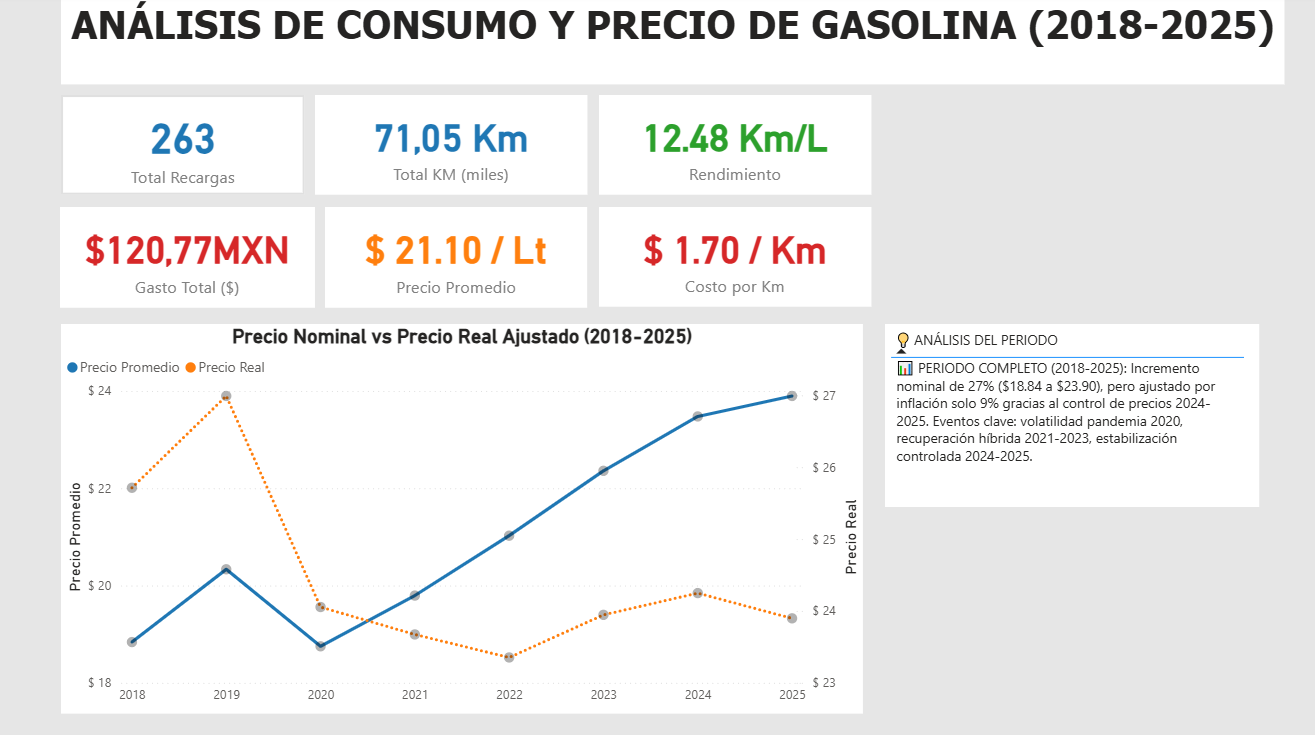

Layout of this report page (visuals, bound fields, positions):
{"tool":"powerbi","page":{"name":"Resumen Ejecutivo","canvas":[1280,720],"ordinal":0},"visuals":[{"type":"lineChart","title":"Precio Nominal vs Precio Real Ajustado (2018-2025)","fields":{"Category":["gasolina_powerbi.Año"],"Y2":["Tabla Medidas.Precio Real"],"Y":["Tabla Medidas.Precio Promedio"]},"box":[59.3,319,780.1,379.3],"z":0},{"type":"textbox","box":[59.7,0,1190.4,85.8],"z":1000},{"type":"card","fields":{"Values":["Tabla Medidas.Total Recargas"]},"box":[59.3,96.3,237.3,97.3],"z":2000},{"type":"card","fields":{"Values":["Tabla Visualiza.Total KM Recorridos"]},"box":[306.4,96.3,264.6,97.3],"z":3000},{"type":"card","fields":{"Values":["Tabla Medidas.Rendimiento"]},"box":[582.6,96.3,264.6,97.3],"z":4000},{"type":"card","fields":{"Values":["Tabla Visualiza.Gasto Total ($)"]},"box":[58.8,205,247.5,97.5],"z":5000},{"type":"card","fields":{"Values":["Tabla Medidas.Precio Promedio"]},"box":[316.2,205,255,97.5],"z":6000},{"type":"card","fields":{"Values":["Tabla Medidas.Costo por Km"]},"box":[582.6,205.2,264.6,97.3],"z":7000},{"type":"tableEx","fields":{"Values":["Tabla Medidas.Insight Dinámico"]},"box":[860.8,319,363.8,178],"z":8000}]}

Visuals, with their boxes in screenshot pixels (x1, y1, x2, y2), scaled from the page's 1280x720 canvas onto the 1315x735 screenshot:
"Precio Nominal vs Precio Real Ajustado (2018-2025)" lineChart: (left=61, top=326, right=862, bottom=713)
textbox: (left=61, top=0, right=1284, bottom=88)
card - Tabla Medidas.Total Recargas: (left=61, top=98, right=305, bottom=198)
card - Tabla Visualiza.Total KM Recorridos: (left=315, top=98, right=587, bottom=198)
card - Tabla Medidas.Rendimiento: (left=599, top=98, right=870, bottom=198)
card - Tabla Visualiza.Gasto Total ($): (left=60, top=209, right=315, bottom=309)
card - Tabla Medidas.Precio Promedio: (left=325, top=209, right=587, bottom=309)
card - Tabla Medidas.Costo por Km: (left=599, top=209, right=870, bottom=309)
tableEx - Tabla Medidas.Insight Dinámico: (left=884, top=326, right=1258, bottom=507)
